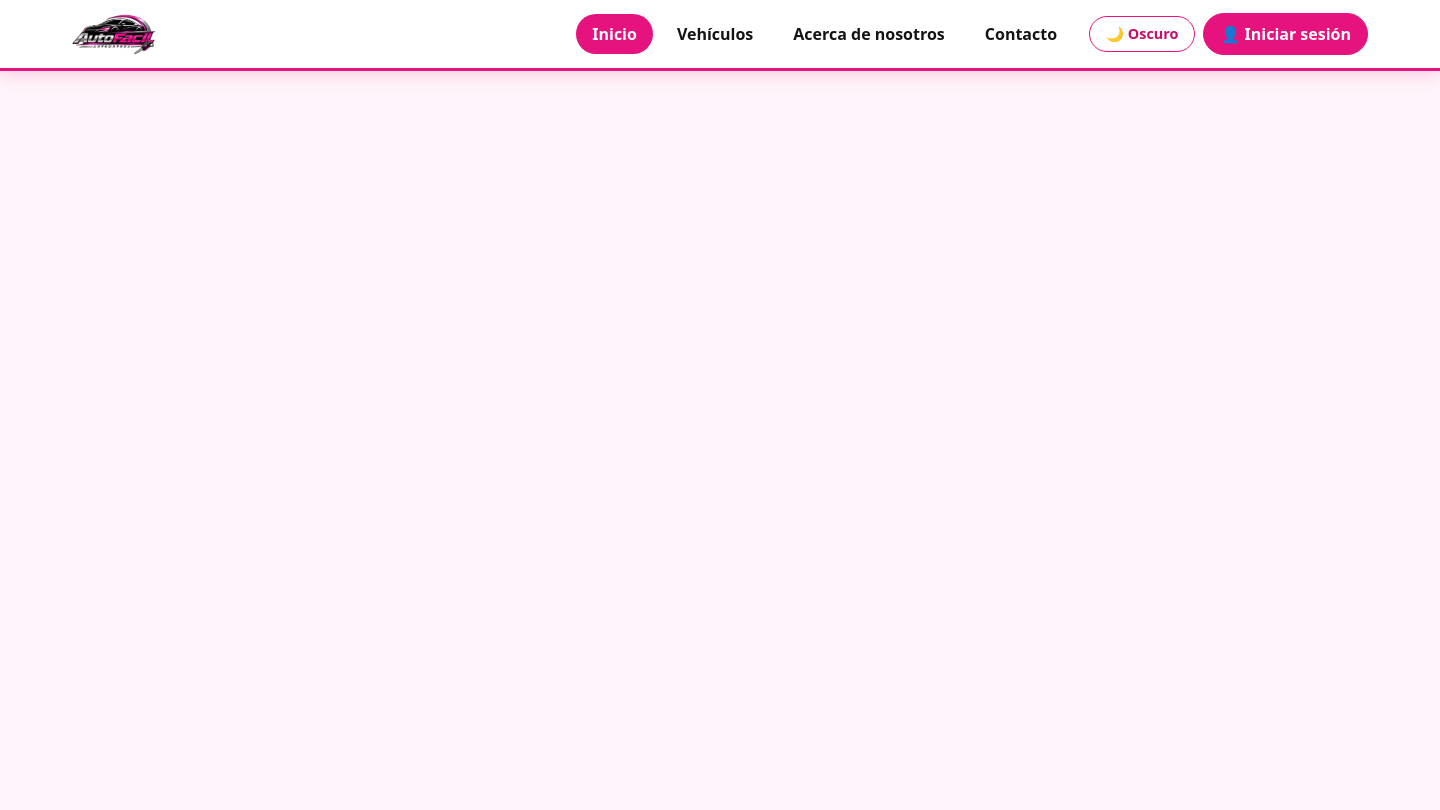
Test: ModalSesion › inicia sesión como administrador
Click the button "👤 Iniciar sesión" at (1286, 34), box [1203,13,1368,55]
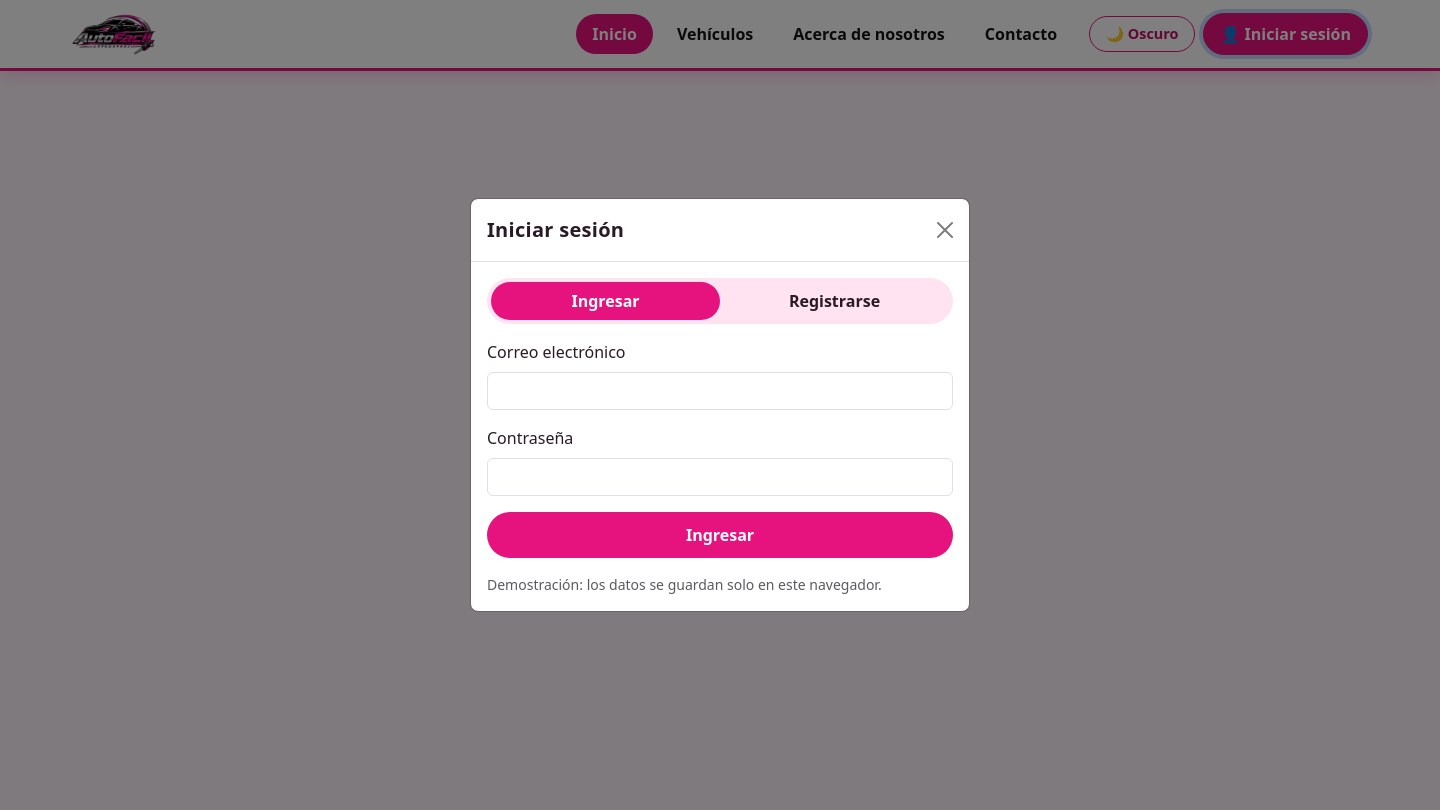
Type "admin@autofacil.cl" into the field labelled "Correo electrónico" at (720, 391), box [487,372,953,410]
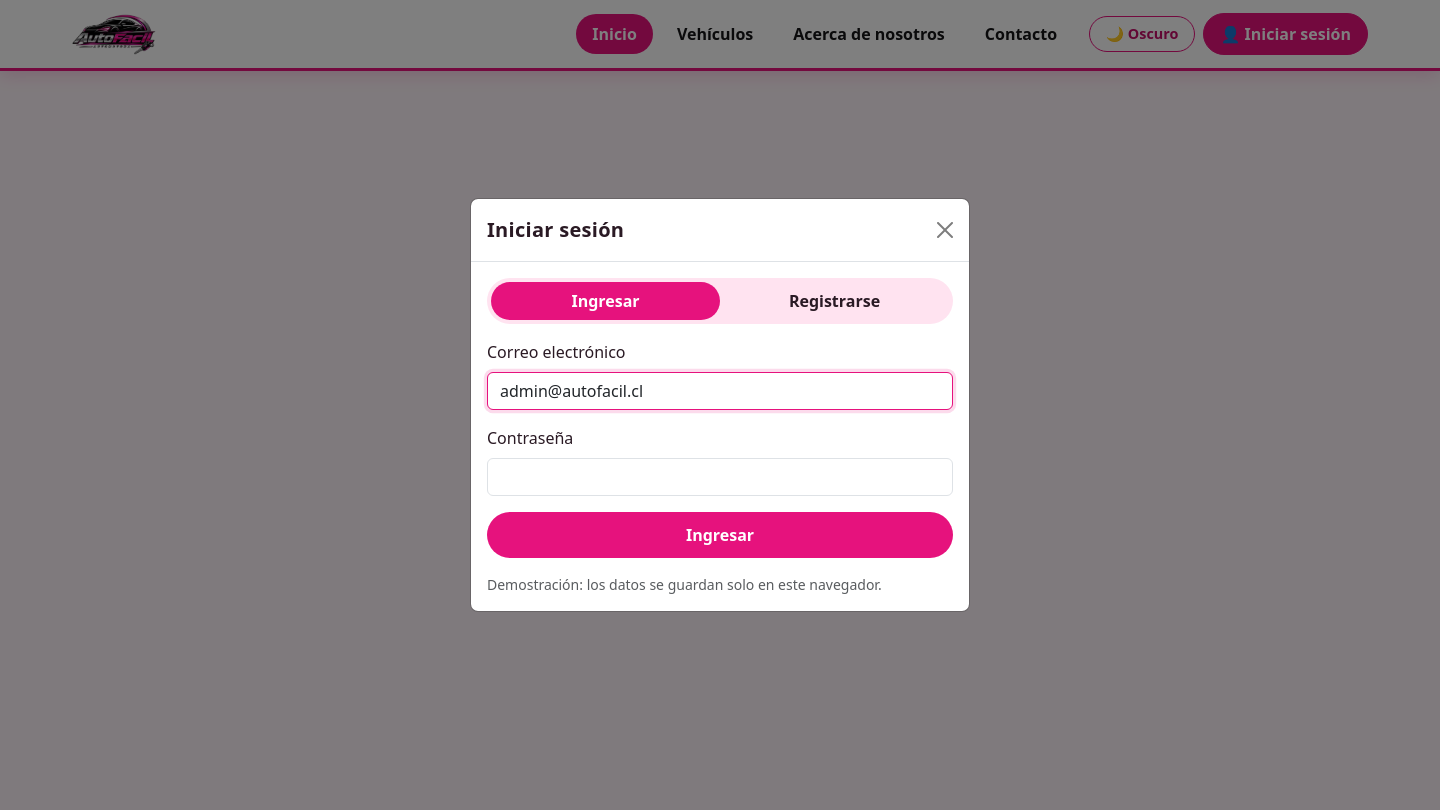
Type "Admin@2026" into the password field labelled "Contraseña" at (720, 477), box [487,458,953,496]
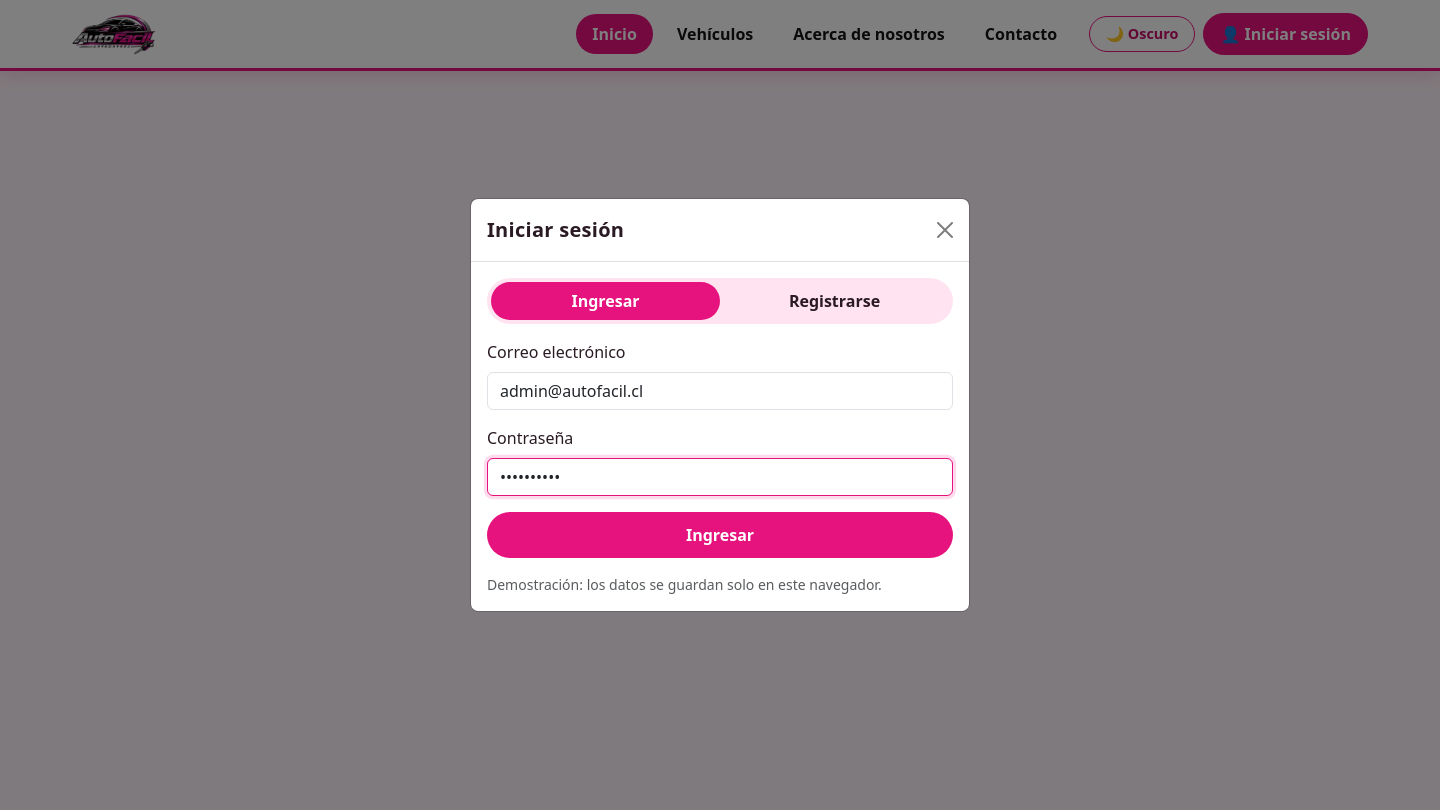
Click the submit button at (720, 535), box [487,512,953,558]
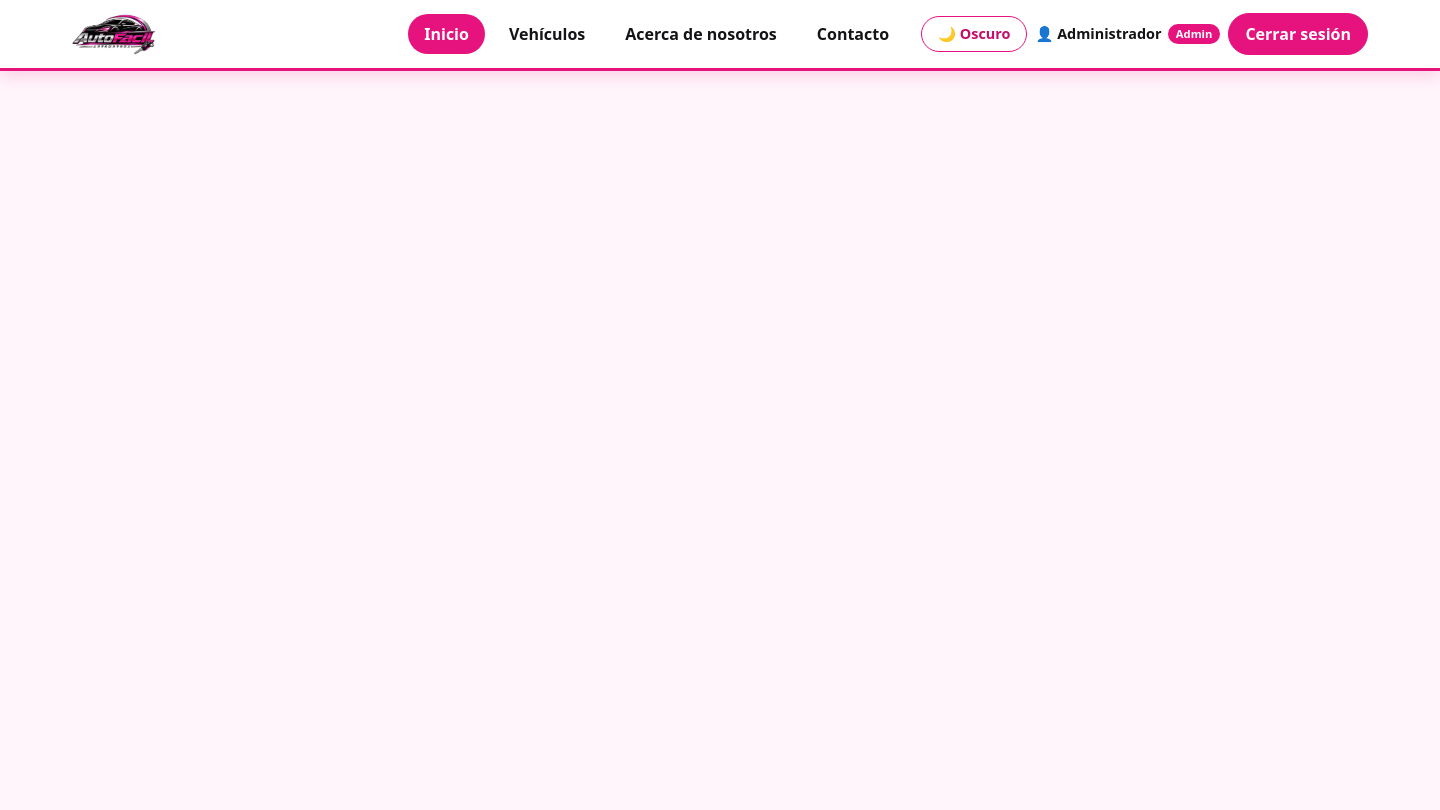
Check: the label labelled "Correo electrónico" is gone
Check: the text "Admin" is shown, box [1168,24,1220,44]
